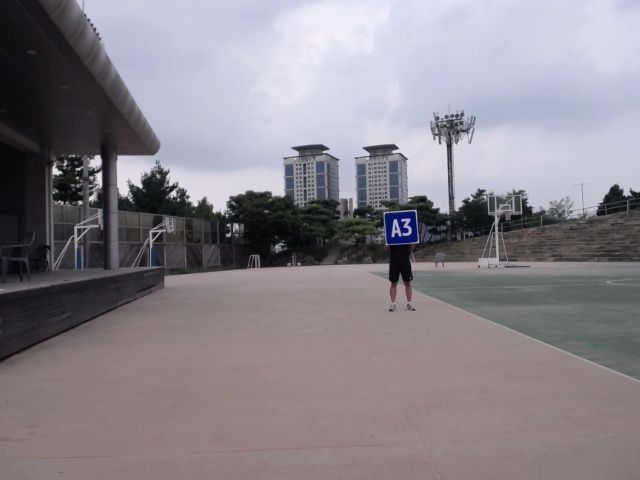delivery_a3: (384, 209, 418, 246)
